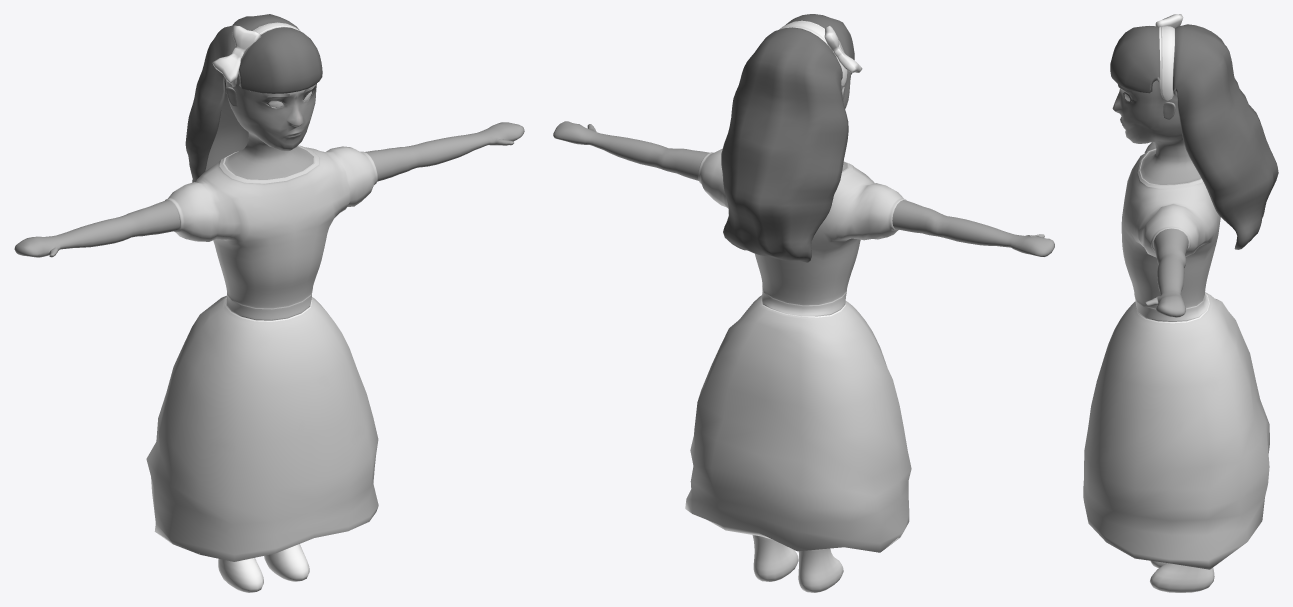
Rendered from CharacterUnreal.fbx.
3 renders of one model, left to right at view 1: azimuth 30°, elevation 25°; view 2: azimuth 150°, elevation 25°; view 3: azimuth 270°, elevation 25°, orthographic. The views are drawn at different scales.
Visible parts, largest first — view 1: CtWHChar; view 2: CtWHChar; view 3: CtWHChar.
Part boxes in pixels (x1,y1,x2,y2): CtWHChar: (14,14,524,592); CtWHChar: (553,14,1054,592); CtWHChar: (1083,14,1278,592).
Bounding box in the file's own units: 17.17 × 5.88 × 18.25.
